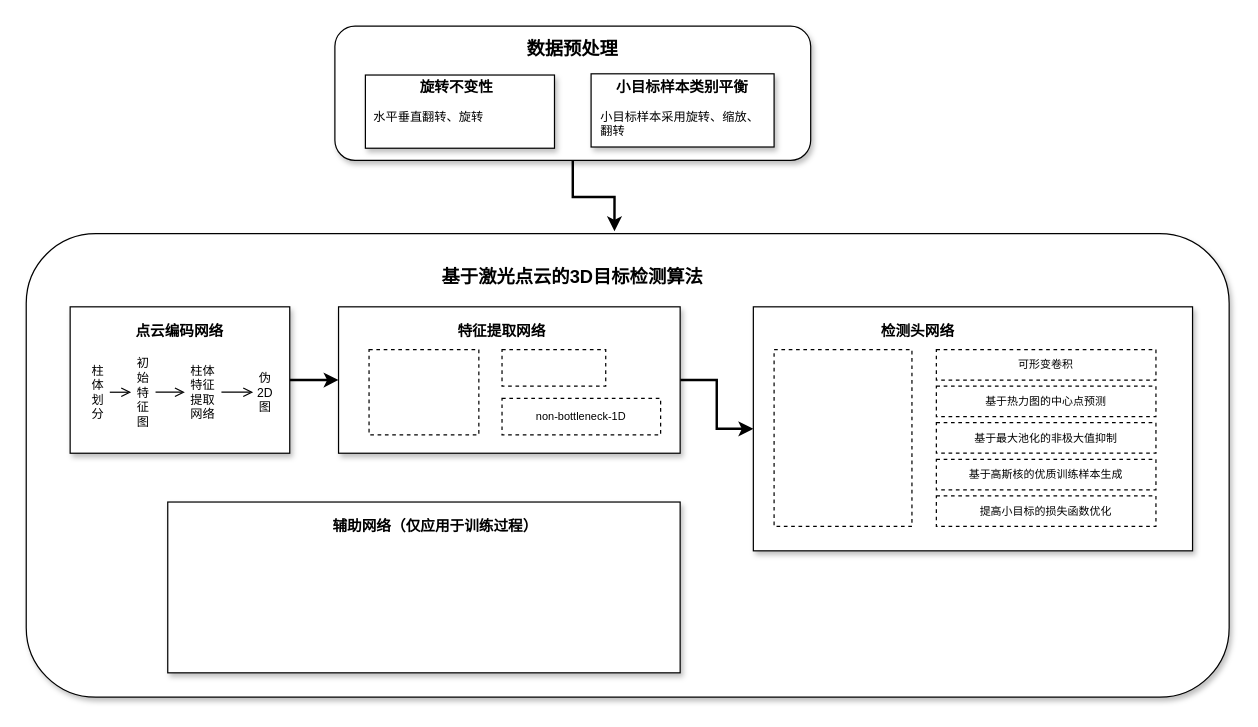
The diagram is 1258 pixels wide and 727 high, and some of its shapes have lost their labels. Each missing label, with the centre of its shape:
"AnchorFree Head" belongs at [842,437].
"卷积神经网络" belongs at [423,391].
"特征金字塔" belongs at [553,367].
